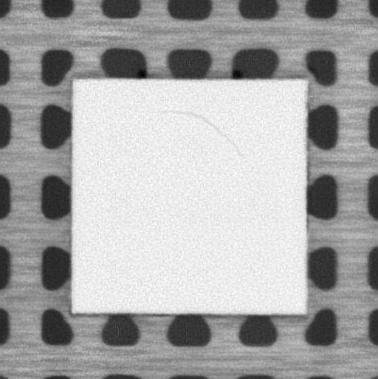DIE_CRACK: (161, 108, 244, 156)
